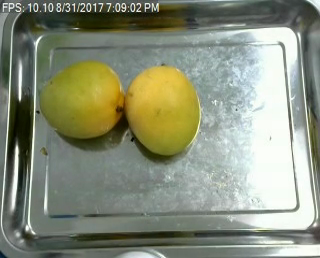Mango: (124, 67, 201, 154), (39, 62, 123, 140)
